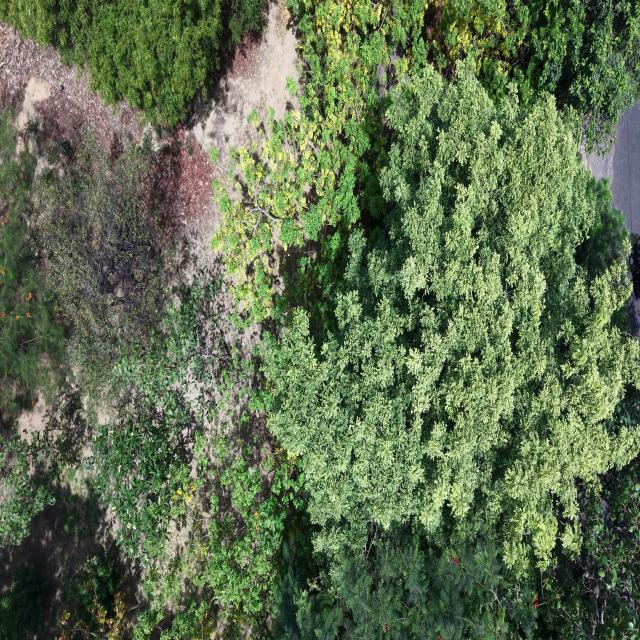DRY_AREA: (152, 0, 298, 284), (152, 0, 298, 267), (158, 2, 298, 223), (0, 390, 115, 639), (189, 0, 299, 191), (0, 23, 148, 164), (190, 0, 298, 191), (190, 0, 298, 190), (0, 23, 142, 154), (0, 23, 143, 149), (192, 3, 298, 165), (585, 103, 639, 337), (586, 103, 639, 235)
PATHWAYS: (586, 103, 639, 235)
VEGETATION_TREE: (0, 0, 639, 639), (217, 5, 637, 612), (266, 6, 637, 637), (266, 65, 638, 637), (266, 64, 639, 567), (0, 136, 302, 638), (214, 0, 639, 319), (94, 283, 302, 639), (0, 112, 164, 546), (213, 0, 424, 320), (276, 461, 639, 639), (291, 0, 639, 146), (94, 285, 225, 565), (38, 132, 171, 393), (137, 436, 302, 639), (0, 0, 264, 125), (417, 0, 639, 148), (277, 526, 540, 639), (0, 111, 62, 546), (50, 0, 224, 124), (0, 111, 61, 420), (543, 461, 639, 638), (58, 546, 126, 639), (0, 430, 54, 546), (0, 566, 50, 639)
